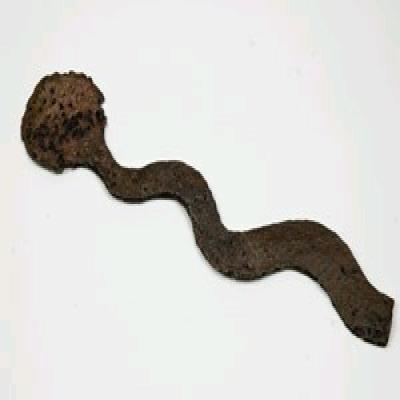technique: (20, 72, 395, 348)
